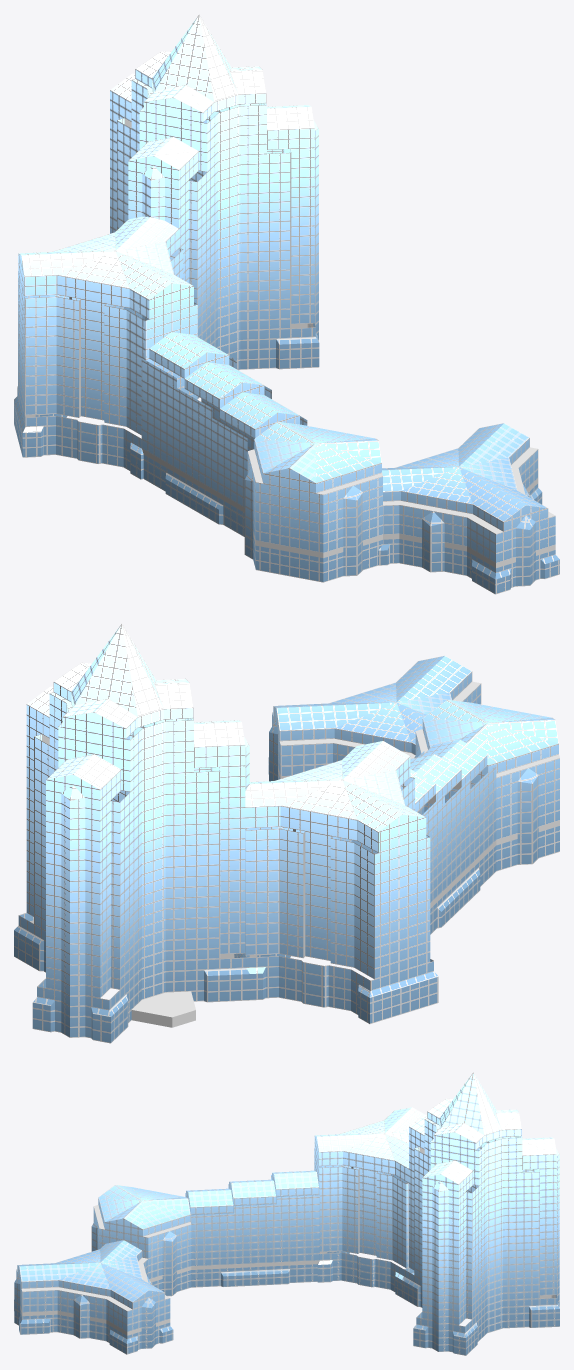
Rendered from nurli-temp-2.glb.
The picture shows the model from 3 angles, top to bottom: view 1: azimuth 30°, elevation 25°; view 2: azimuth 150°, elevation 25°; view 3: azimuth 270°, elevation 25°; orthographic projection. The views are drawn at different scales.
Parts seen in each view (by area): view 1: nurli-tmp; view 2: nurli-tmp; view 3: nurli-tmp.
Part boxes in pixels (bbox=[...]): nurli-tmp: bbox=[14, 14, 559, 594]; nurli-tmp: bbox=[14, 624, 559, 1043]; nurli-tmp: bbox=[14, 1072, 559, 1355].
Bounding box in the file's own units: 129 × 122 × 246.
2 materials, 1 textured.
